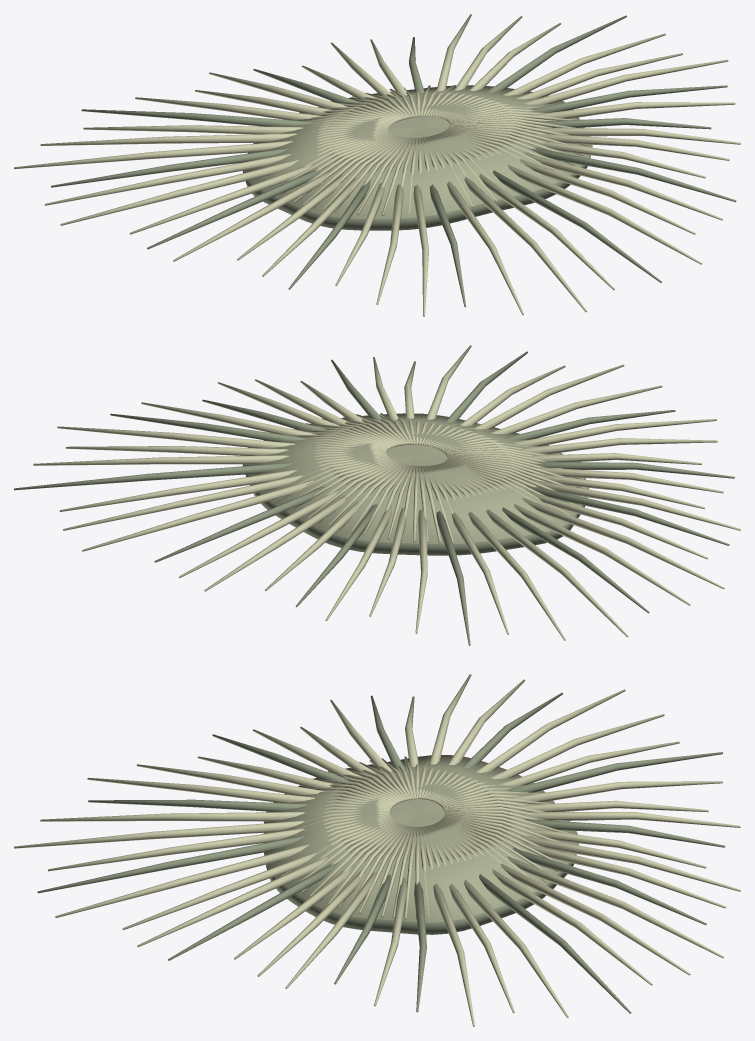
The model's file is choia.glb.
3 renders of one model, top to bottom at view 1: azimuth 30°, elevation 25°; view 2: azimuth 150°, elevation 25°; view 3: azimuth 270°, elevation 25°, orthographic. The views are drawn at different scales.
Parts seen in each view (by area): view 1: ordered-radial-long-spicules-and-fine-disc-rays, flattened-elliptical-sponge-disc; view 2: ordered-radial-long-spicules-and-fine-disc-rays, flattened-elliptical-sponge-disc; view 3: ordered-radial-long-spicules-and-fine-disc-rays, flattened-elliptical-sponge-disc.
Part boxes in pixels (x1=…): ordered-radial-long-spicules-and-fine-disc-rays: x1=14, y1=14, x2=740, y2=316; flattened-elliptical-sponge-disc: x1=242, y1=85, x2=592, y2=230; ordered-radial-long-spicules-and-fine-disc-rays: x1=14, y1=345, x2=740, y2=645; flattened-elliptical-sponge-disc: x1=242, y1=413, x2=589, y2=555; ordered-radial-long-spicules-and-fine-disc-rays: x1=14, y1=674, x2=740, y2=1026; flattened-elliptical-sponge-disc: x1=264, y1=755, x2=579, y2=934.
Bounding box in the file's own units: 0.06 × 0.00387 × 0.0525.
